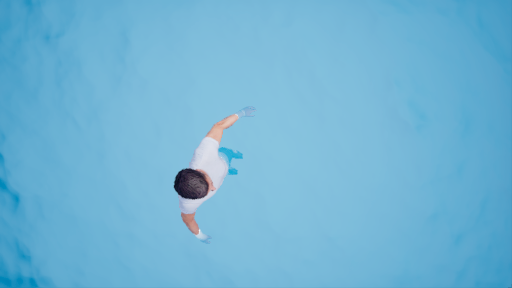person: (174, 92, 258, 257)
